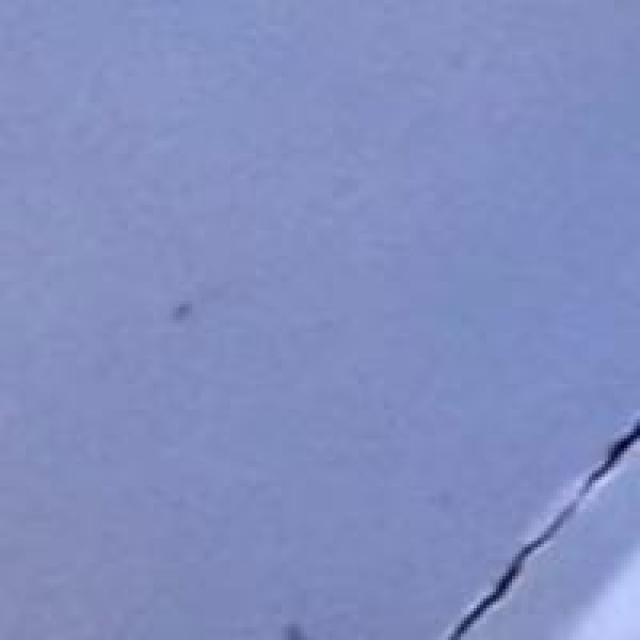Crack: (435, 410, 637, 637)
